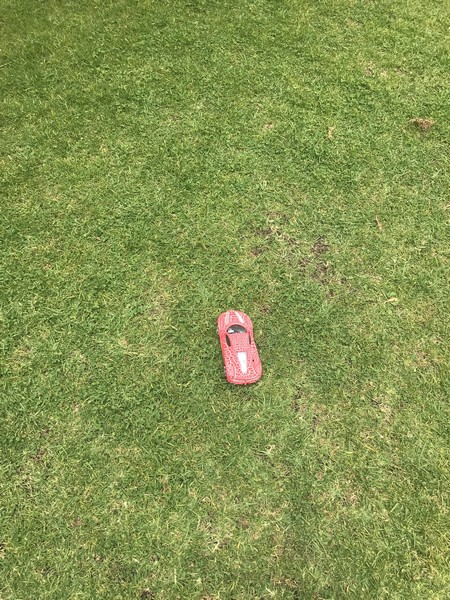RC: (215, 309, 265, 387)
